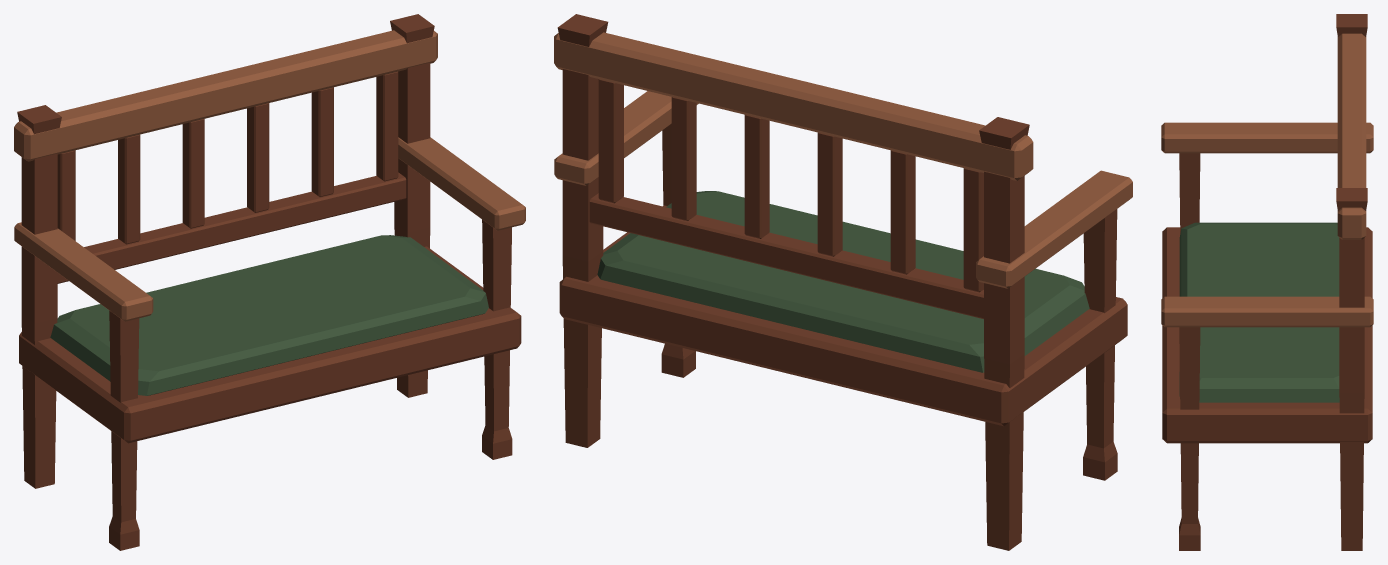
Rendered from bench_01.glb.
3 renders of one model, left to right at view 1: azimuth 30°, elevation 25°; view 2: azimuth 150°, elevation 25°; view 3: azimuth 270°, elevation 25°, orthographic. The views are drawn at different scales.
Parts seen in each view (by area): view 1: LongCushion, SeatBase, BackTopRail, RearLeg, BackBottomRail, RearLeg_001, FrontLeg, ArmRest, FrontLeg_001, ArmRest_001, Slat_01, Slat_02 (+4 smaller); view 2: LongCushion, SeatBase, BackTopRail, RearLeg, BackBottomRail, RearLeg_001, FrontLeg, ArmRest, ArmRest_001, Slat_01, Slat_05, Slat_02 (+4 smaller); view 3: LongCushion, SeatBase, RearLeg_001, ArmRest_001, ArmRest, BackTopRail, FrontLeg_001, FrontLeg, RearLeg.
Boxes of the visible parts, box(x1,y1,x2,y2) form: LongCushion: box(50, 235, 488, 395); SeatBase: box(19, 246, 521, 443); BackTopRail: box(14, 30, 437, 161); RearLeg: box(17, 105, 61, 488); BackBottomRail: box(57, 172, 406, 283); RearLeg_001: box(390, 14, 434, 397); FrontLeg: box(109, 310, 139, 550); ArmRest: box(14, 222, 153, 321); FrontLeg_001: box(482, 219, 512, 459); ArmRest_001: box(398, 137, 525, 230); Slat_01: box(118, 134, 140, 244); Slat_02: box(182, 119, 204, 228); LongCushion: box(597, 191, 1089, 372); SeatBase: box(559, 205, 1127, 426); BackTopRail: box(554, 32, 1033, 180); RearLeg: box(979, 117, 1029, 550); BackBottomRail: box(589, 193, 983, 318); RearLeg_001: box(557, 14, 608, 447); FrontLeg: box(1083, 209, 1117, 480); ArmRest: box(976, 170, 1132, 288); ArmRest_001: box(554, 91, 698, 185); Slat_01: box(890, 150, 915, 274); Slat_05: box(598, 79, 623, 203); Slat_02: box(817, 132, 842, 256); LongCushion: box(1179, 222, 1339, 402); SeatBase: box(1162, 227, 1372, 443); RearLeg_001: box(1336, 188, 1367, 550); ArmRest_001: box(1161, 296, 1373, 327); ArmRest: box(1161, 122, 1373, 153); BackTopRail: box(1337, 33, 1366, 239); FrontLeg_001: box(1179, 327, 1200, 550); FrontLeg: box(1179, 153, 1200, 232); RearLeg: box(1336, 14, 1367, 36).
Bounding box in the file's own units: 1.2 × 1.02 × 0.558.
